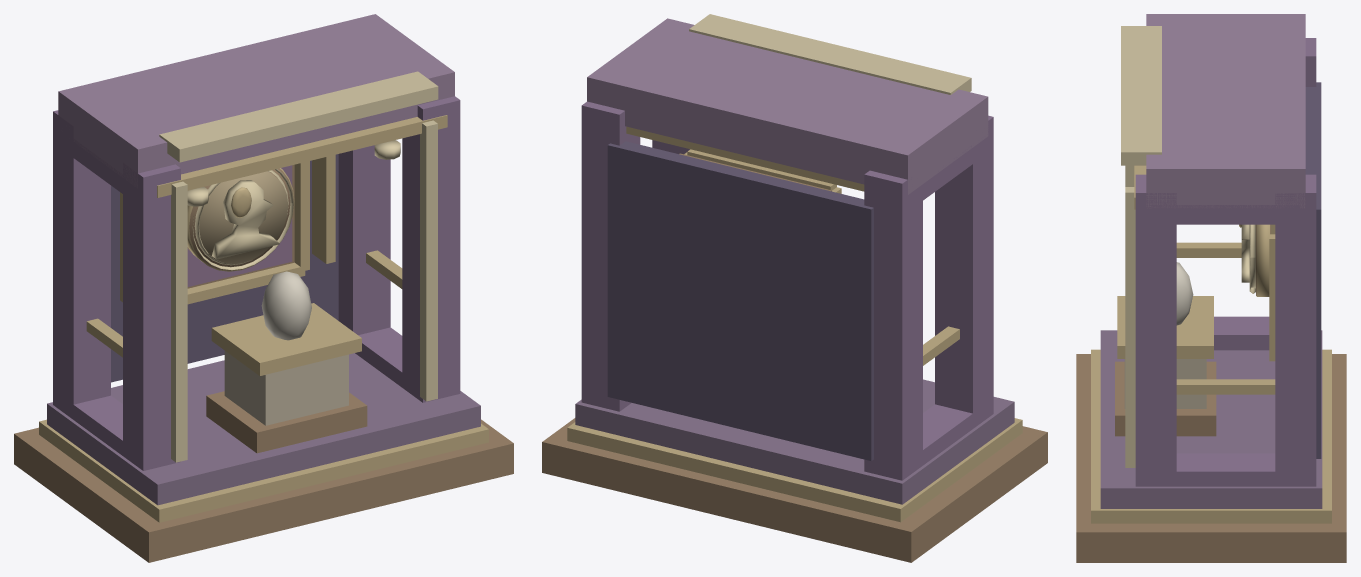
Rendered from ART-70.glb.
3 views of the same model, side by side, from view 1: azimuth 30°, elevation 25°; view 2: azimuth 150°, elevation 25°; view 3: azimuth 270°, elevation 25° (orthographic).
Visible parts, largest first — view 1: world; view 2: world; view 3: world.
Part boxes in pixels (x1,y1,x2,y2): world: (14,14,513,562); world: (542,14,1047,562); world: (1076,14,1346,562).
Size of the model in its own units: 1.99 by 2 by 1.27.
